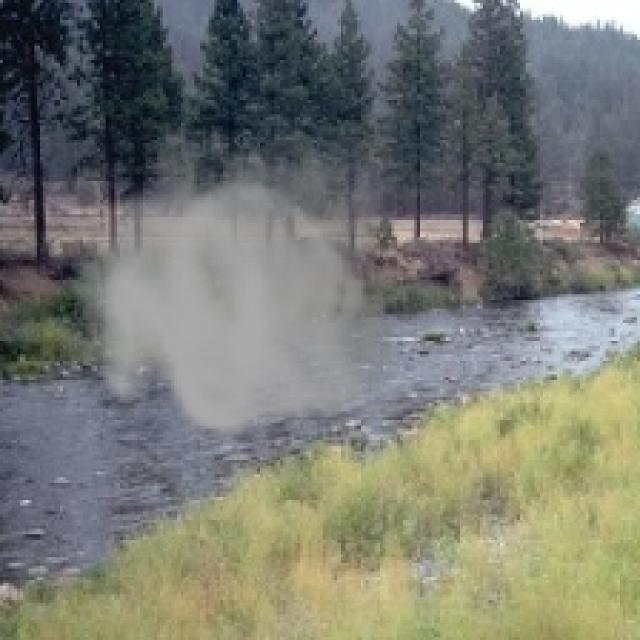Smoke: (68, 86, 414, 440)
